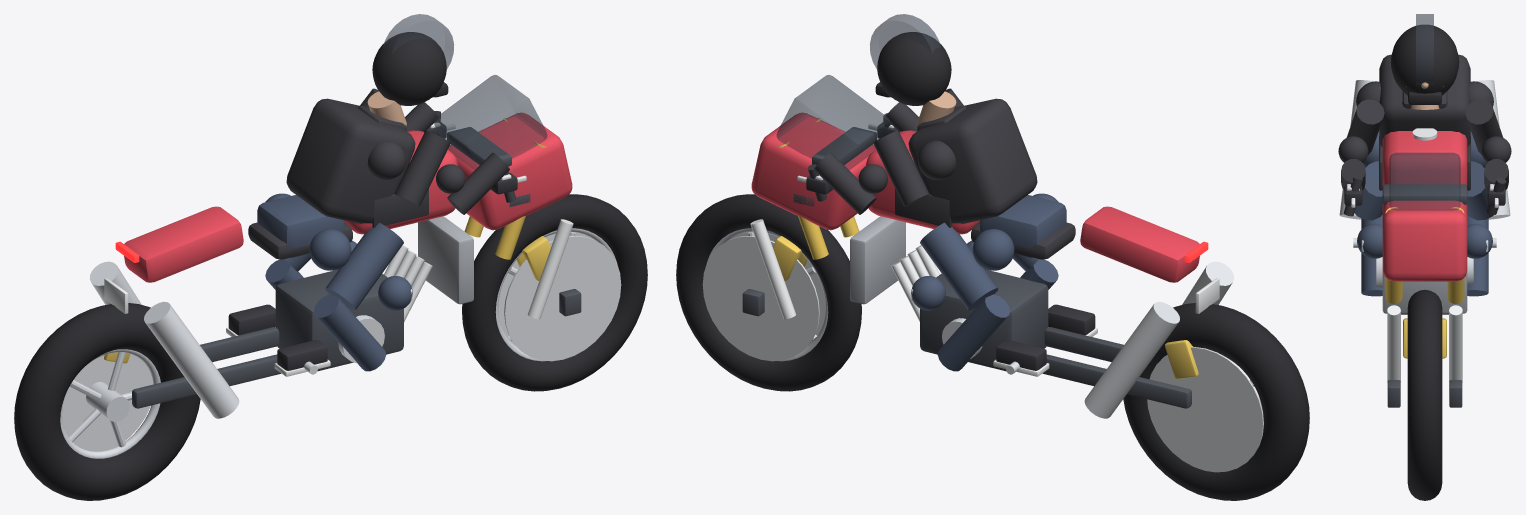
Rendered from sportbike-rider.glb.
The picture shows the model from 3 angles, left to right: view 1: azimuth 30°, elevation 25°; view 2: azimuth 150°, elevation 25°; view 3: azimuth 270°, elevation 25°; orthographic projection.
Parts seen in each view (by area): view 1: Wheel_R_Tire, Wheel_F_Tire, Rider_Torso, Wheel_F_Disc_-1, Nose_Cowl, Windscreen, Wheel_R, Tail_Cowl, Engine_Crankcase, Helmet_Crown, Muffler_-1, Radiator (+27 smaller); view 2: Wheel_R_Tire, Wheel_F_Tire, Wheel_R, Rider_Torso, Wheel_F, Nose_Cowl, Windscreen, Engine_Crankcase, Tail_Cowl, Helmet_Crown, Muffler_1, Radiator (+26 smaller); view 3: Wheel_F_Tire, Nose_Cowl, Fuel_Tank, Windscreen, Helmet_Crown, Rider_Torso, TripleTree_Upper, Radiator, Helmet_Visor_Raised, Rider_UpperArm_1, Rider_UpperArm_-1, Rider_Thigh_-1 (+29 smaller).
Part boxes in pixels (x1,y1,x2,y2): Wheel_R_Tire: (14, 303, 200, 500); Wheel_F_Tire: (462, 194, 647, 391); Rider_Torso: (286, 98, 415, 223); Wheel_F_Disc_-1: (504, 235, 621, 361); Nose_Cowl: (448, 113, 572, 230); Windscreen: (434, 75, 547, 169); Wheel_R: (62, 352, 153, 451); Tail_Cowl: (124, 206, 243, 282); Engine_Crankcase: (275, 269, 403, 371); Helmet_Crown: (372, 32, 446, 105); Muffler_-1: (144, 301, 239, 418); Radiator: (418, 216, 473, 304); Wheel_R_Tire: (1123, 303, 1309, 500); Wheel_F_Tire: (676, 194, 861, 391); Wheel_R: (1147, 347, 1263, 472); Rider_Torso: (908, 98, 1037, 223); Wheel_F: (702, 232, 819, 361); Nose_Cowl: (751, 113, 875, 230); Windscreen: (776, 75, 889, 169); Engine_Crankcase: (920, 269, 1048, 371); Tail_Cowl: (1080, 206, 1199, 282); Helmet_Crown: (877, 32, 951, 105); Muffler_1: (1084, 301, 1179, 418); Radiator: (850, 216, 905, 304); Wheel_F_Tire: (1407, 290, 1442, 500); Nose_Cowl: (1382, 200, 1467, 281); Fuel_Tank: (1382, 131, 1467, 185); Windscreen: (1389, 152, 1460, 210); Helmet_Crown: (1390, 24, 1459, 93); Rider_Torso: (1379, 54, 1470, 146); TripleTree_Upper: (1382, 184, 1467, 204); Radiator: (1382, 271, 1467, 313); Helmet_Visor_Raised: (1416, 14, 1433, 84); Rider_UpperArm_1: (1465, 99, 1503, 154); Rider_UpperArm_-1: (1346, 99, 1384, 154); Rider_Thigh_-1: (1354, 161, 1382, 220).
Bounding box in the file's own units: 2.25 × 1.38 × 0.532.
